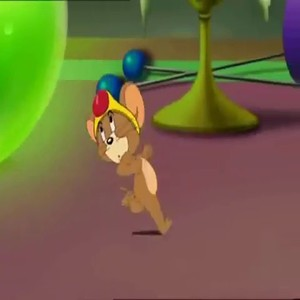Jerry: (80, 82, 176, 238)
